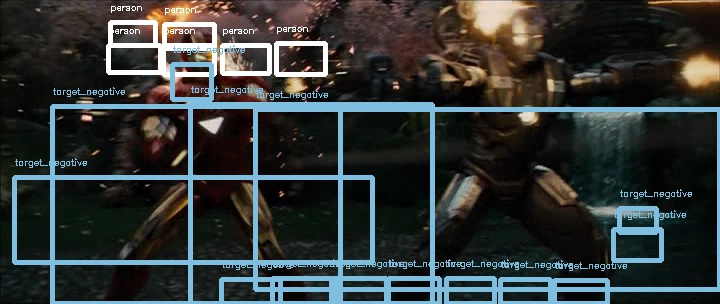person: (176, 28, 226, 81), (175, 28, 225, 81), (177, 28, 227, 81), (176, 27, 226, 80), (176, 29, 226, 82)
target_negative: (19, 69, 562, 149), (110, 48, 310, 235), (574, 141, 709, 302), (521, 85, 578, 216), (182, 262, 677, 271), (236, 275, 254, 298)
